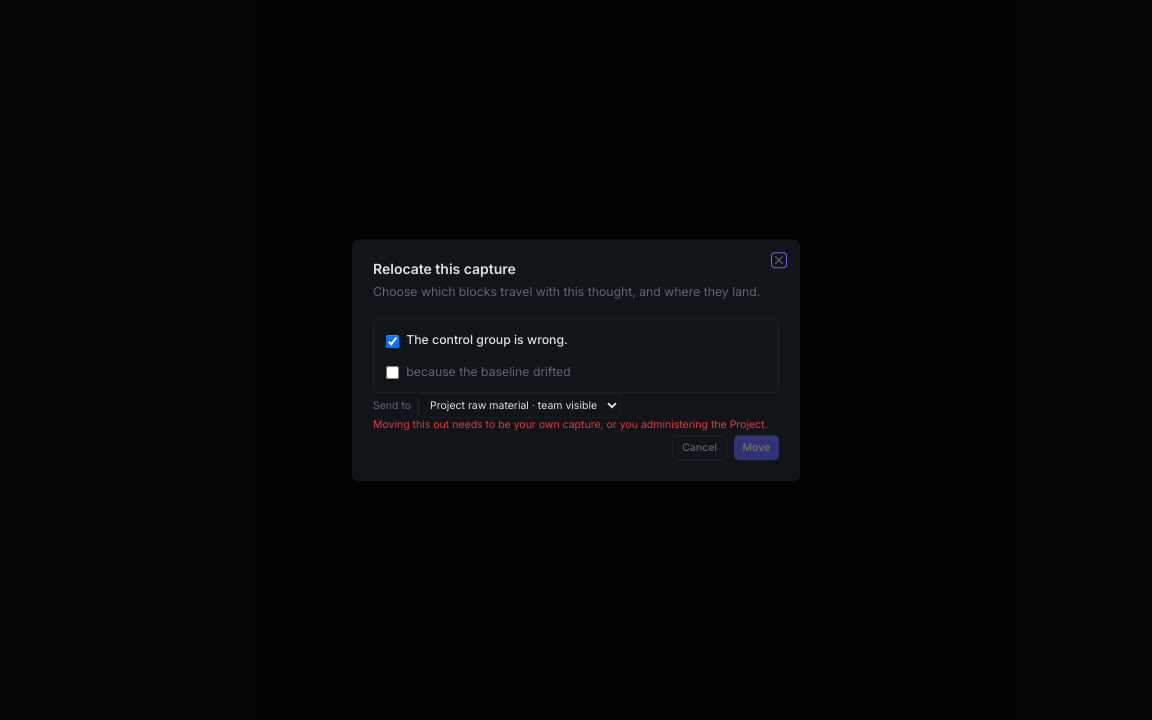
Test case: CaptureRelocationDialog › discloses that a copy out is announced to the other members
This screenshot has width=1152, height=720.
expect the text "The control group is wrong." is shown: met, box [406, 331, 568, 349]
Select "Personal inbox · only you" in the dropdown. click: (520, 406)
box: [418, 393, 621, 418]
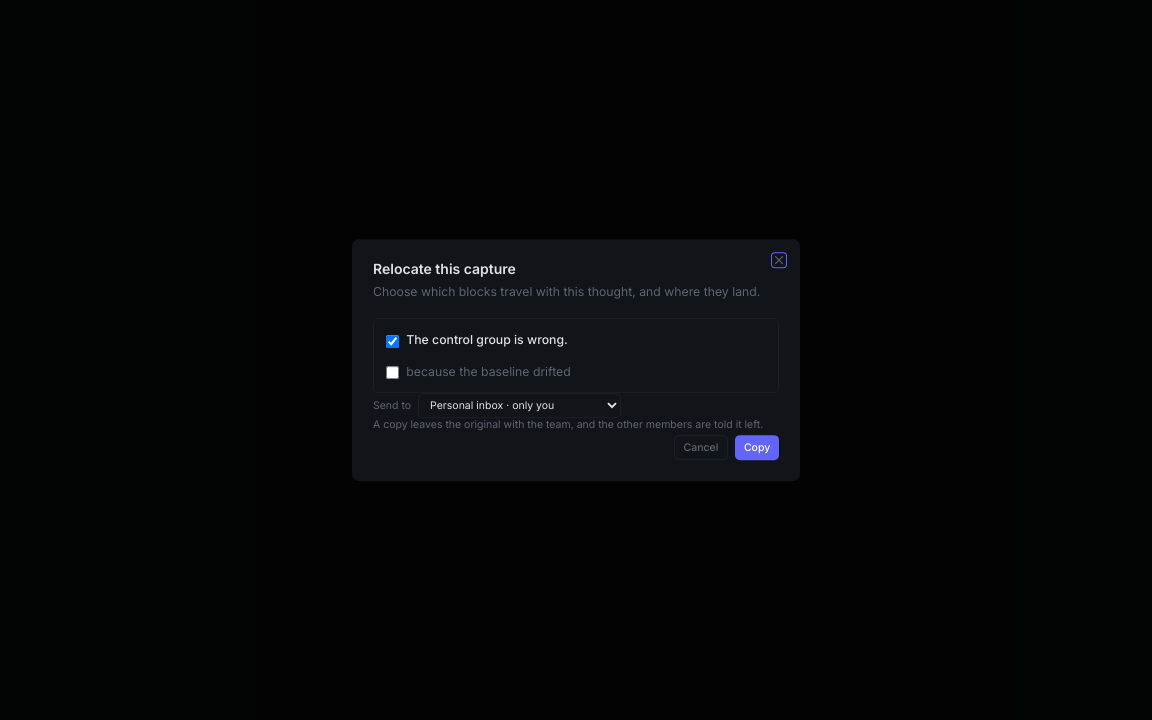
expect the text "other members are told it left" is shown: met, box [373, 418, 763, 431]
